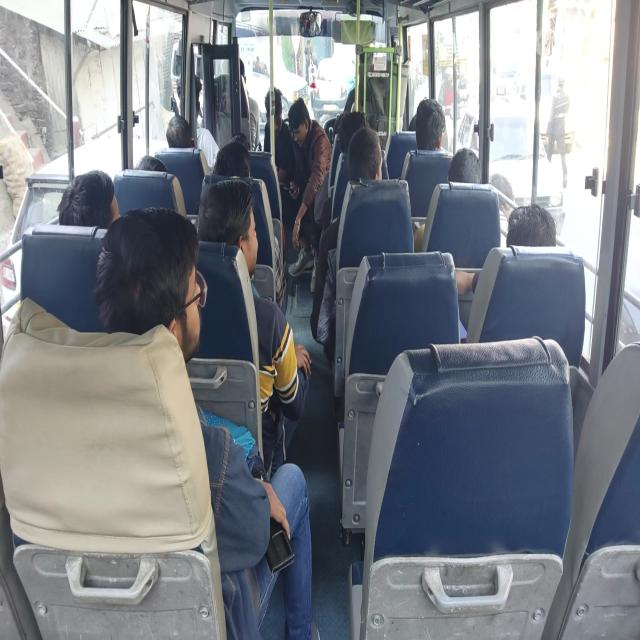person: (129, 230, 211, 357), (211, 182, 267, 274), (64, 171, 117, 232), (508, 210, 568, 260), (416, 100, 451, 150), (215, 142, 256, 178), (138, 150, 173, 191), (446, 155, 482, 191), (178, 69, 204, 118), (355, 144, 385, 185), (169, 121, 198, 150), (338, 114, 366, 144), (291, 106, 311, 146), (357, 43, 379, 77), (269, 96, 281, 130), (232, 57, 249, 81)
